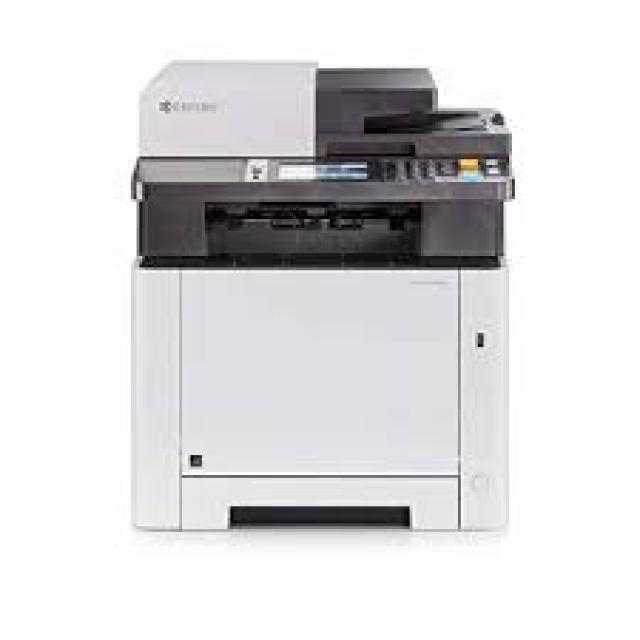printer: (128, 57, 515, 532)
